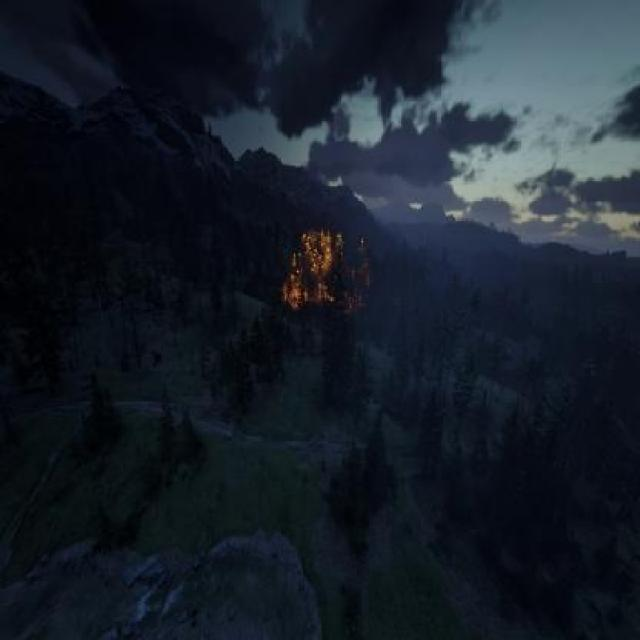Fire: (267, 212, 365, 328)
